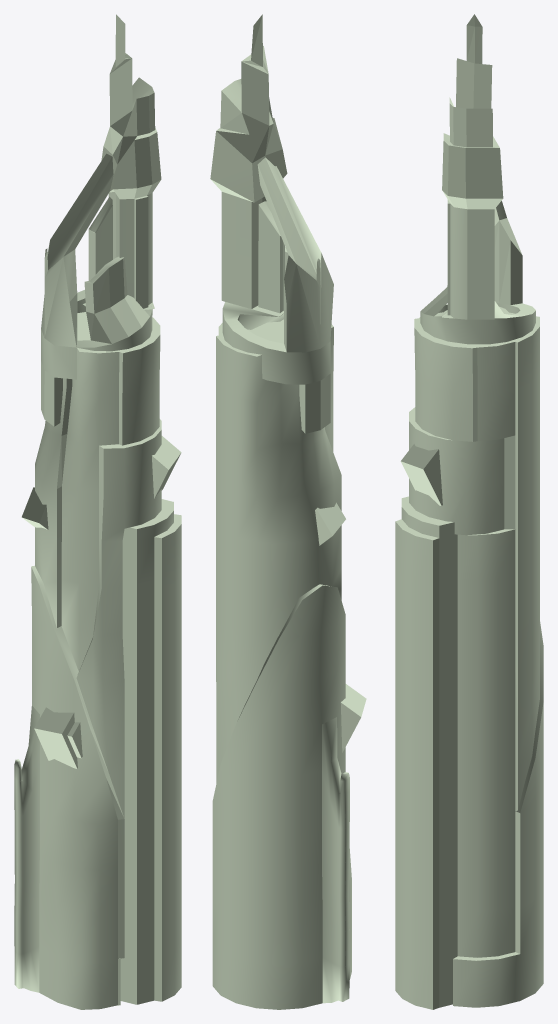
File: citadelfar.fbx
The picture shows the model from 3 angles, left to right: view 1: azimuth 30°, elevation 25°; view 2: azimuth 150°, elevation 25°; view 3: azimuth 270°, elevation 25°; orthographic projection.
Visible parts, largest first — view 1: citadelfar_reference; view 2: citadelfar_reference; view 3: citadelfar_reference.
Boxes of the visible parts, bbox=[...] form: citadelfar_reference: bbox=[14, 14, 181, 1009]; citadelfar_reference: bbox=[210, 14, 366, 1009]; citadelfar_reference: bbox=[395, 14, 543, 1009].
Bounding box in the file's own units: 44256 × 294833 × 40644.
